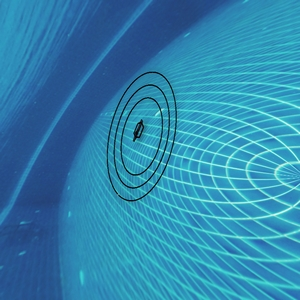circle: (80, 47, 191, 206)
